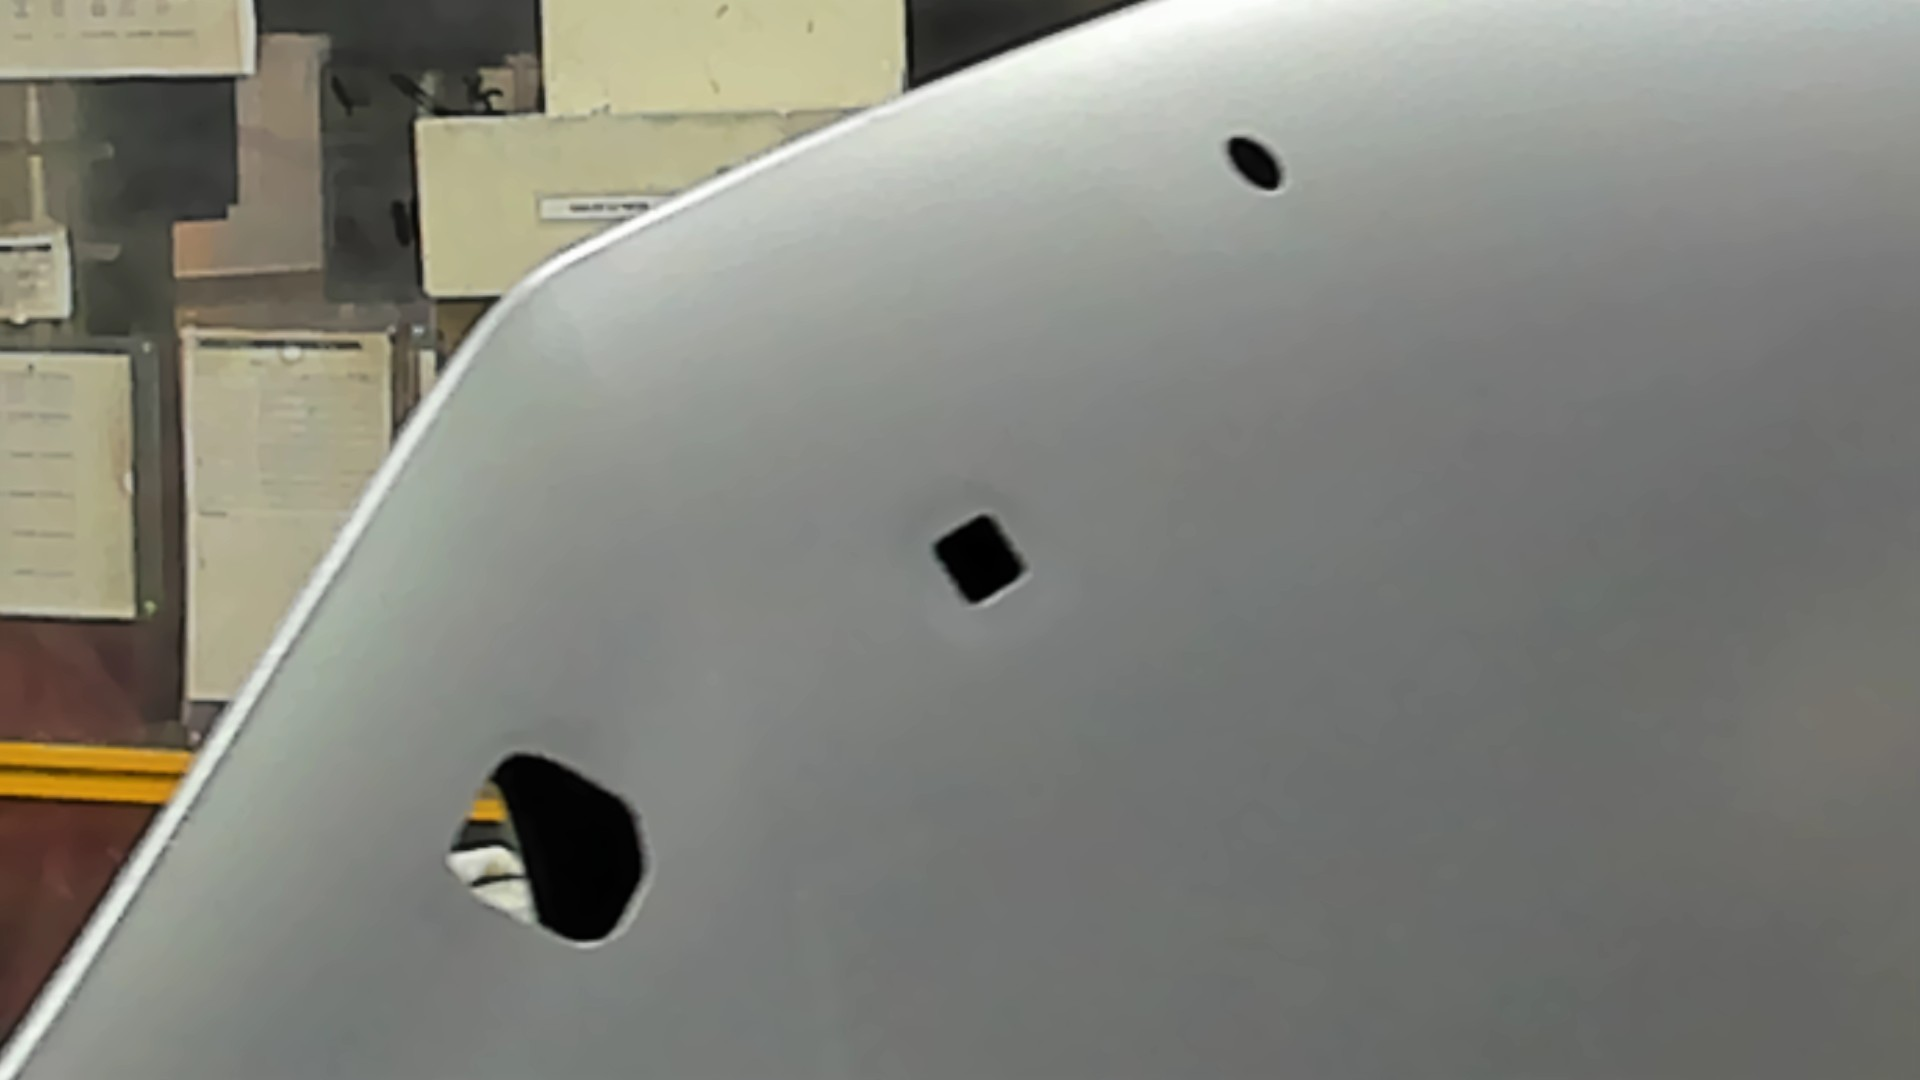chico: (1218, 131, 1291, 196)
grande: (434, 742, 654, 955)
mediano: (923, 509, 1034, 615)
